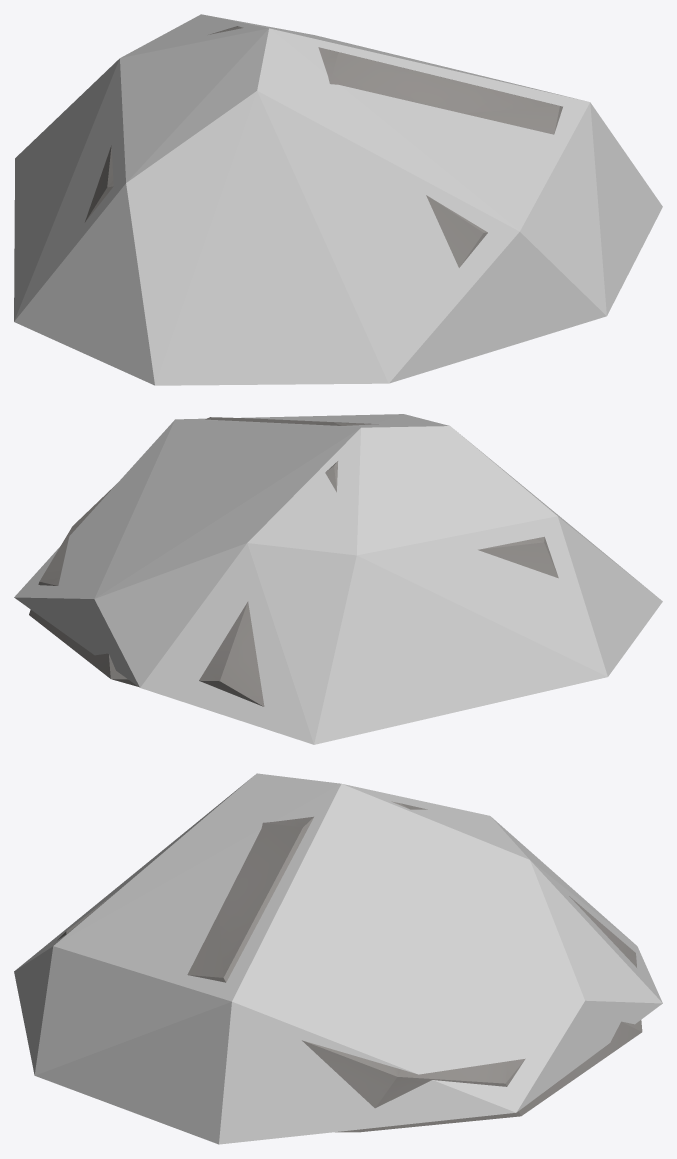
File: SM_Rock_05.fbx
3 renders of one model, top to bottom at view 1: azimuth 30°, elevation 25°; view 2: azimuth 150°, elevation 25°; view 3: azimuth 270°, elevation 25°, orthographic. The views are drawn at different scales.
Parts seen in each view (by area): view 1: SM_Rock_05_ConvexHulls, SM_Rock_05; view 2: SM_Rock_05_ConvexHulls, SM_Rock_05; view 3: SM_Rock_05_ConvexHulls, SM_Rock_05.
Part boxes in pixels (left/top/right/bottom): SM_Rock_05_ConvexHulls: left=14, top=14, right=662, bottom=385; SM_Rock_05: left=84, top=26, right=562, bottom=267; SM_Rock_05_ConvexHulls: left=14, top=414, right=662, bottom=744; SM_Rock_05: left=29, top=417, right=558, bottom=706; SM_Rock_05_ConvexHulls: left=14, top=773, right=662, bottom=1144; SM_Rock_05: left=57, top=801, right=642, bottom=1132.
Bounding box in the file's own units: 41.11 × 40.17 × 14.59.
Materials: 2 (1 with a texture image).
